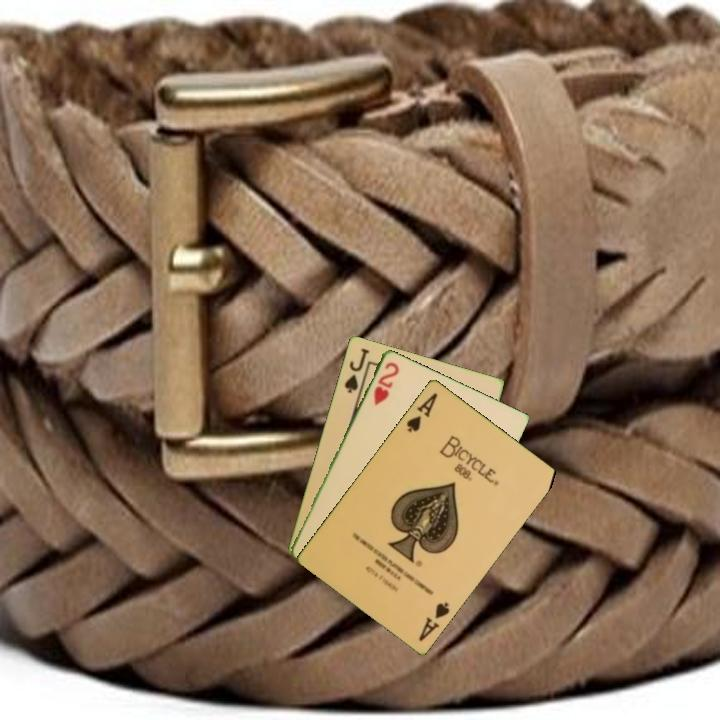2h: (370, 358, 402, 408)
As: (403, 389, 440, 435), (415, 598, 452, 644)
Js: (341, 344, 372, 396)
